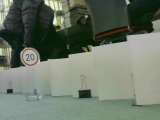speed_20: (19, 47, 41, 67)
